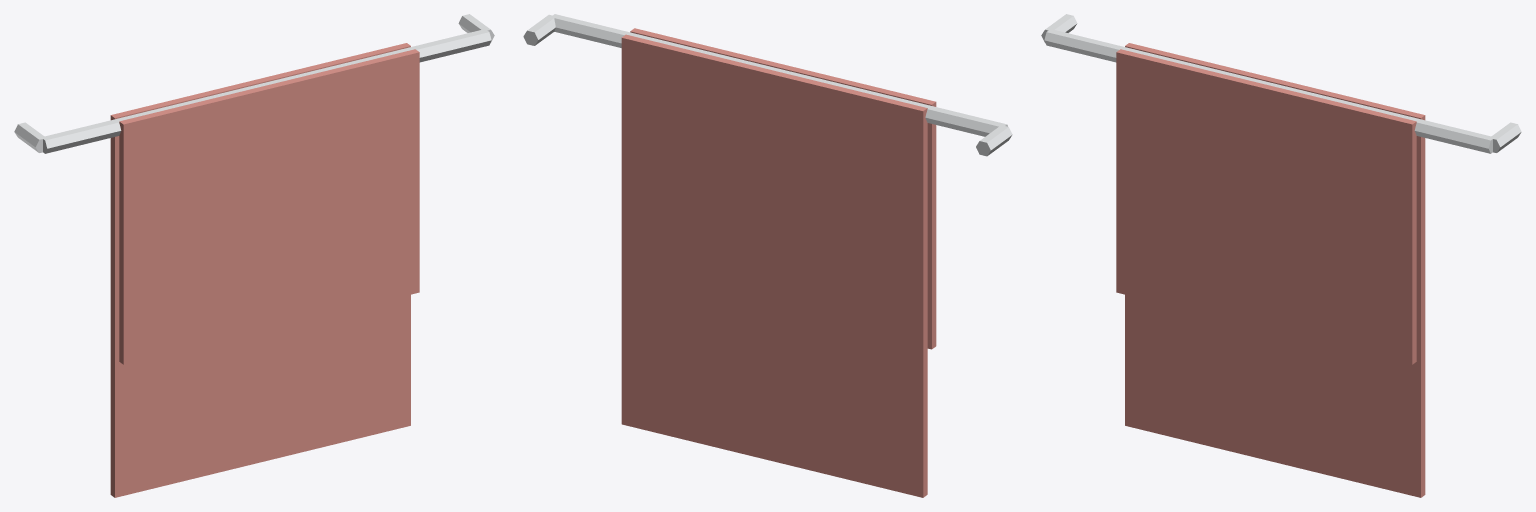
File: towel_bar.glb
3 renders of one model, left to right at view 1: azimuth 30°, elevation 25°; view 2: azimuth 150°, elevation 25°; view 3: azimuth 330°, elevation 25°, orthographic.
Parts seen in each view (by area): view 1: towel_bar_cloth_r, towel_bar_chrome; view 2: towel_bar_cloth_r, towel_bar_chrome; view 3: towel_bar_cloth_r, towel_bar_chrome.
Part boxes in pixels (x1,y1,x2,y2): towel_bar_cloth_r: (110,43,419,497); towel_bar_chrome: (14,14,494,153); towel_bar_cloth_r: (621,28,936,497); towel_bar_chrome: (523,14,1012,156); towel_bar_cloth_r: (1116,43,1425,497); towel_bar_chrome: (1041,14,1521,153).
Bounding box in the file's own units: 0.62 × 0.49 × 0.065.
